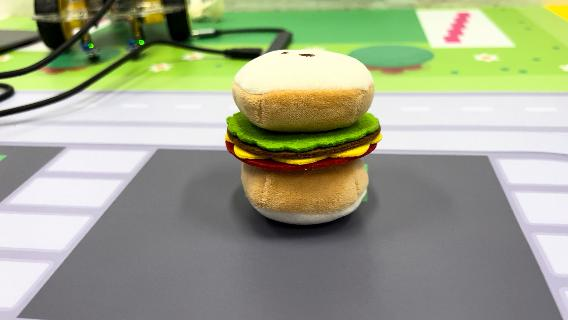sandwich: (223, 45, 384, 226)
